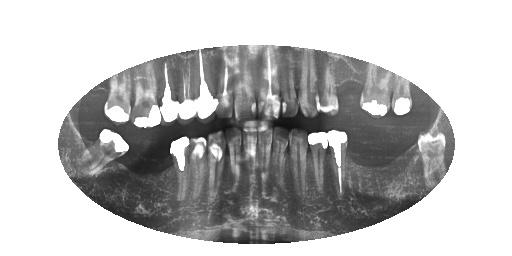Fillings: (82, 129, 129, 176), (132, 63, 161, 127), (360, 64, 394, 117), (104, 71, 132, 124), (170, 136, 191, 199), (307, 131, 328, 190), (391, 74, 413, 116)
Implant: (196, 49, 217, 120), (328, 129, 349, 197), (161, 59, 180, 122), (179, 62, 197, 123)
